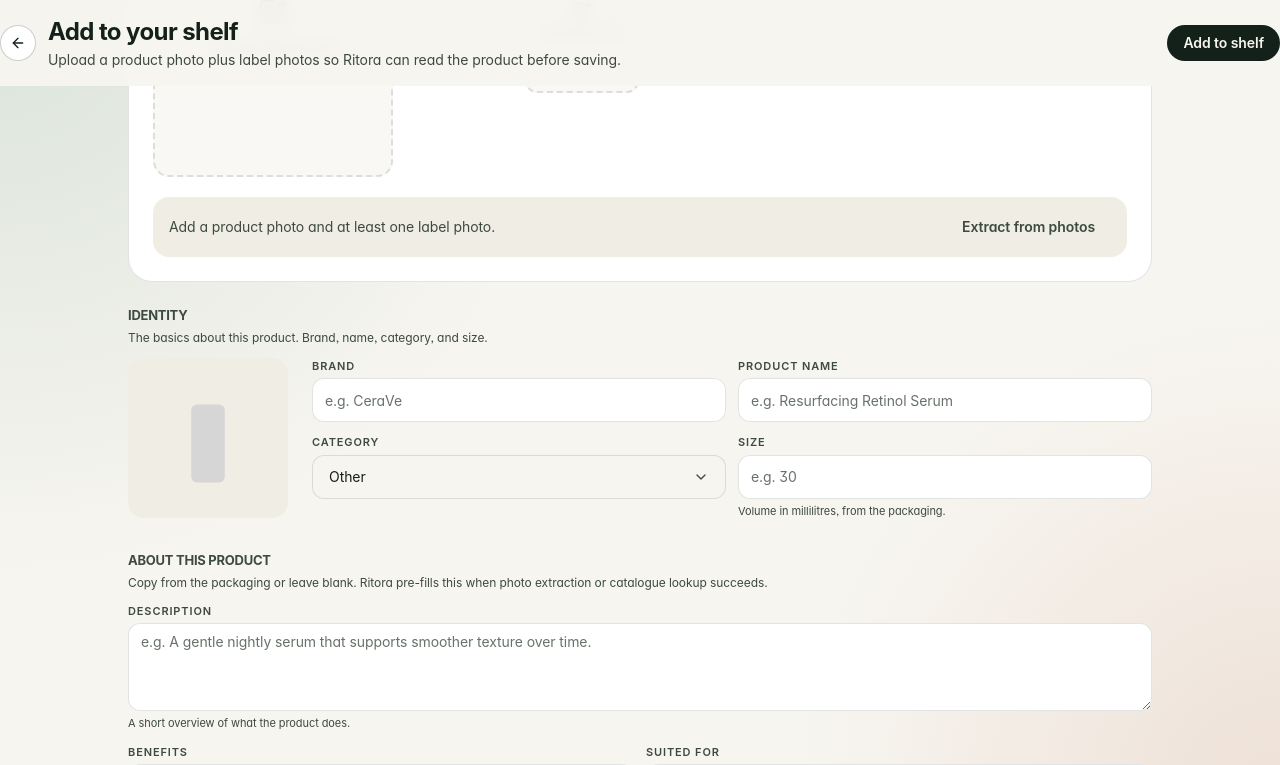
AddProductPage unsaved changes guard › keeps the user on the form when "Keep editing" is clicked
(page scrolled)
Type "CeraVe" into the field labelled "Brand" at coordinates (519, 400), box [312,378,726,422]
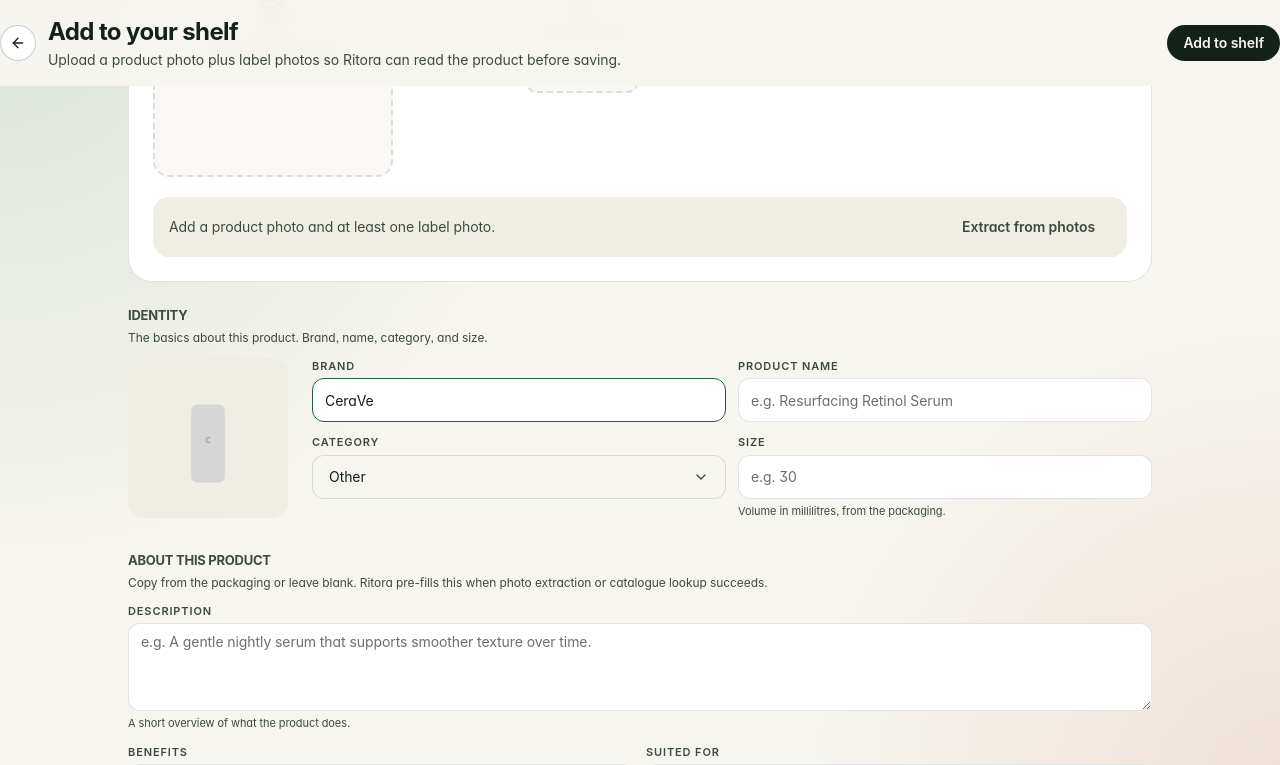
Click the link named "back to shelf" at coordinates (18, 43), box [0,25,36,61]
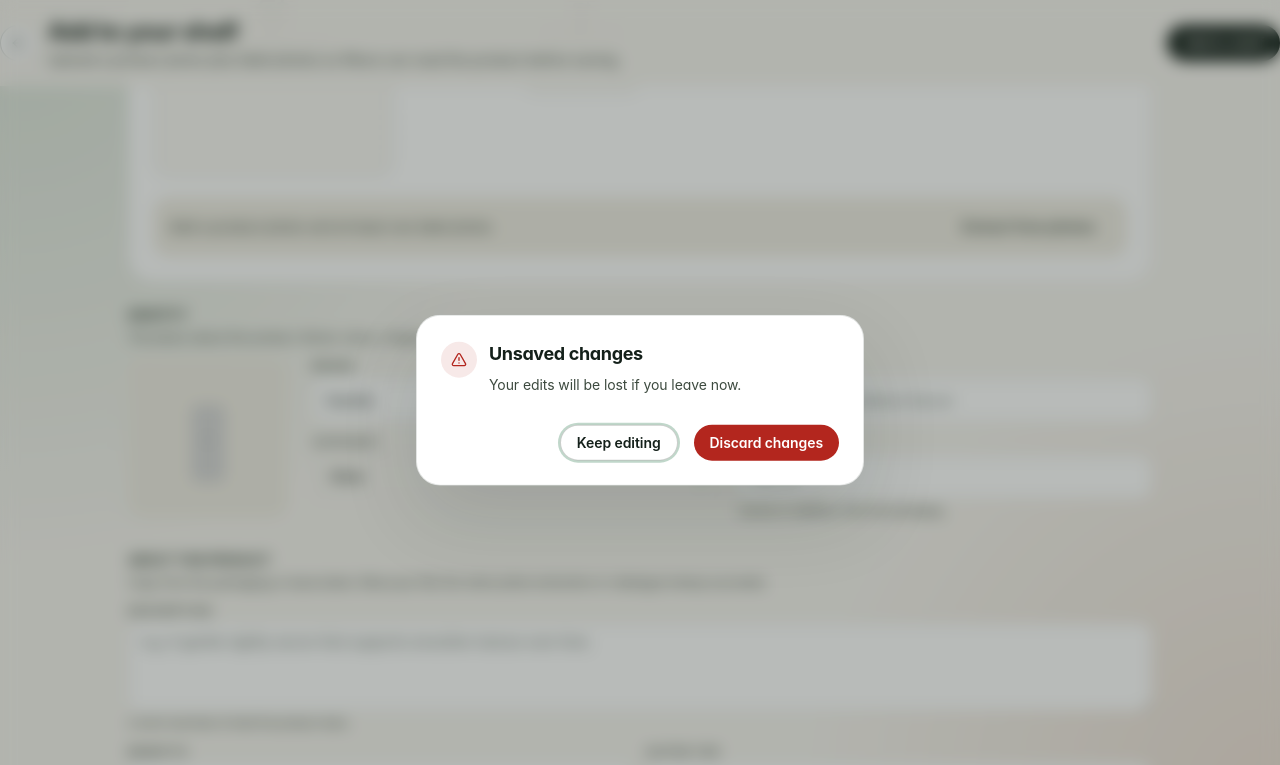
Click the button "Keep editing" at coordinates (619, 442), box [560,424,678,460]
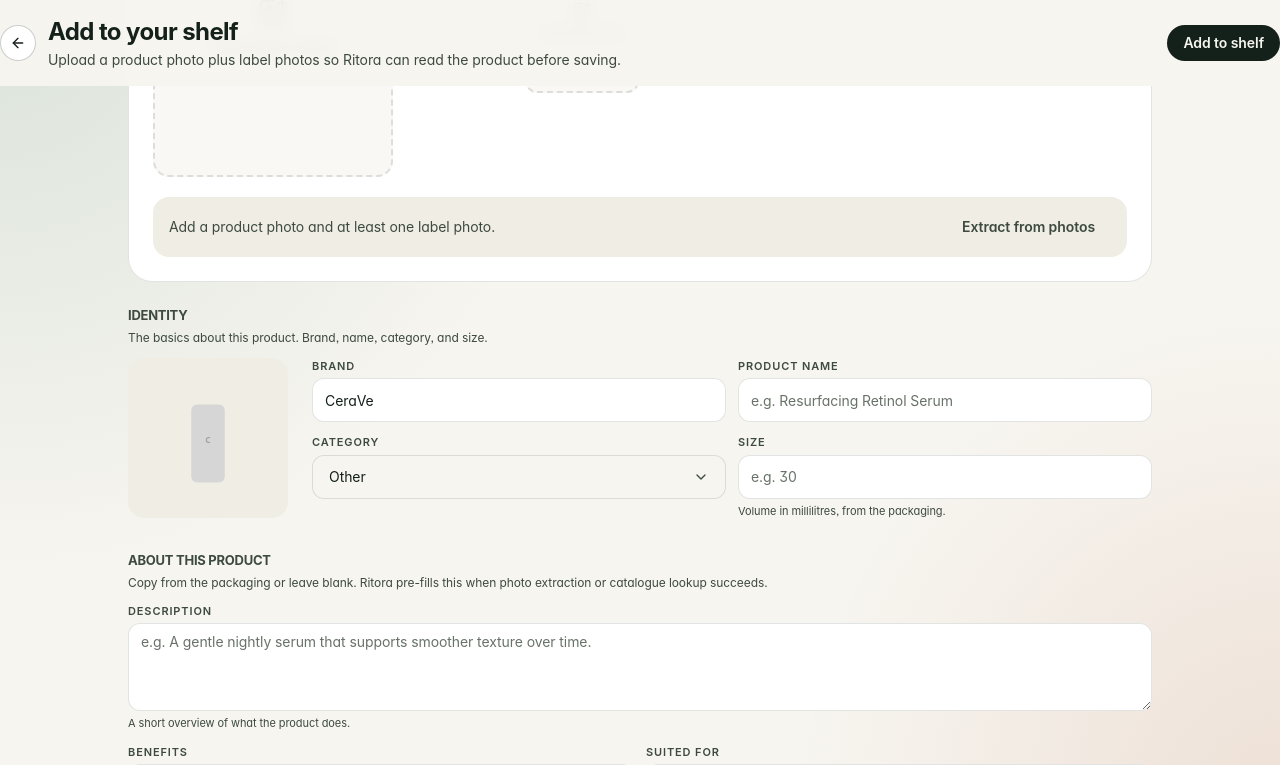
Check: the heading "Unsaved changes" is gone
